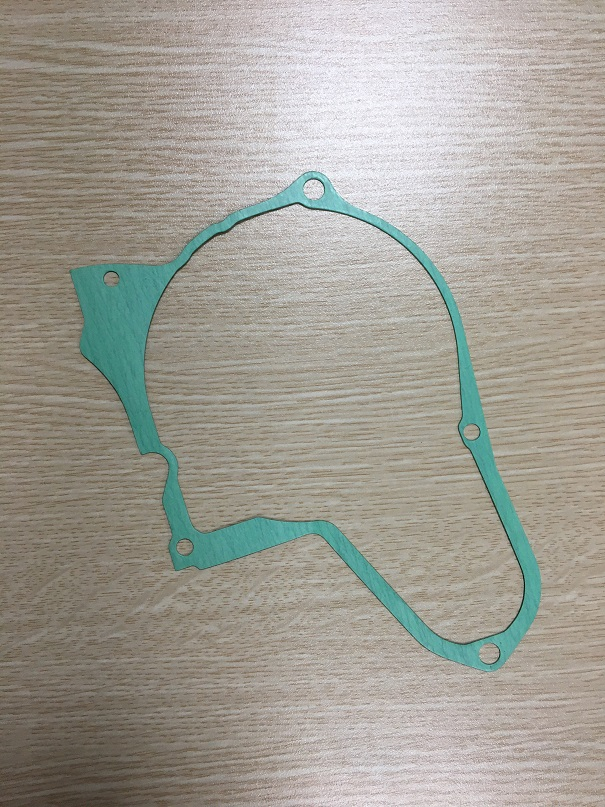type1: (65, 167, 547, 677)
